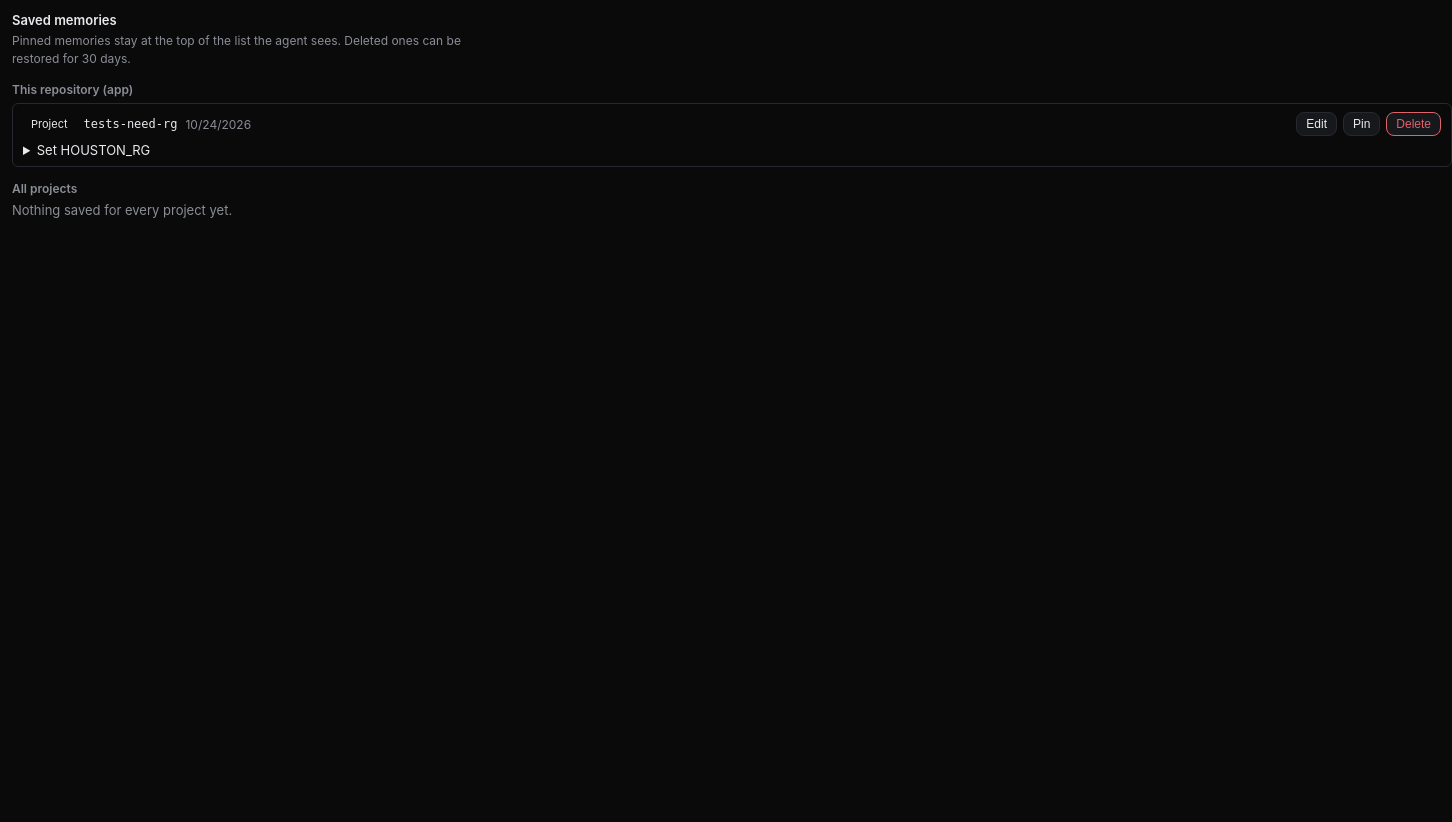
MemoriesSection › edits a memory, sending the version it was read at
The width and height of the screenshot is (1452, 822).
Click the button with aria-label "Edit memory tests-need-rg".
click(1317, 124)  # box top-left (1296, 112), bottom-right (1337, 136)
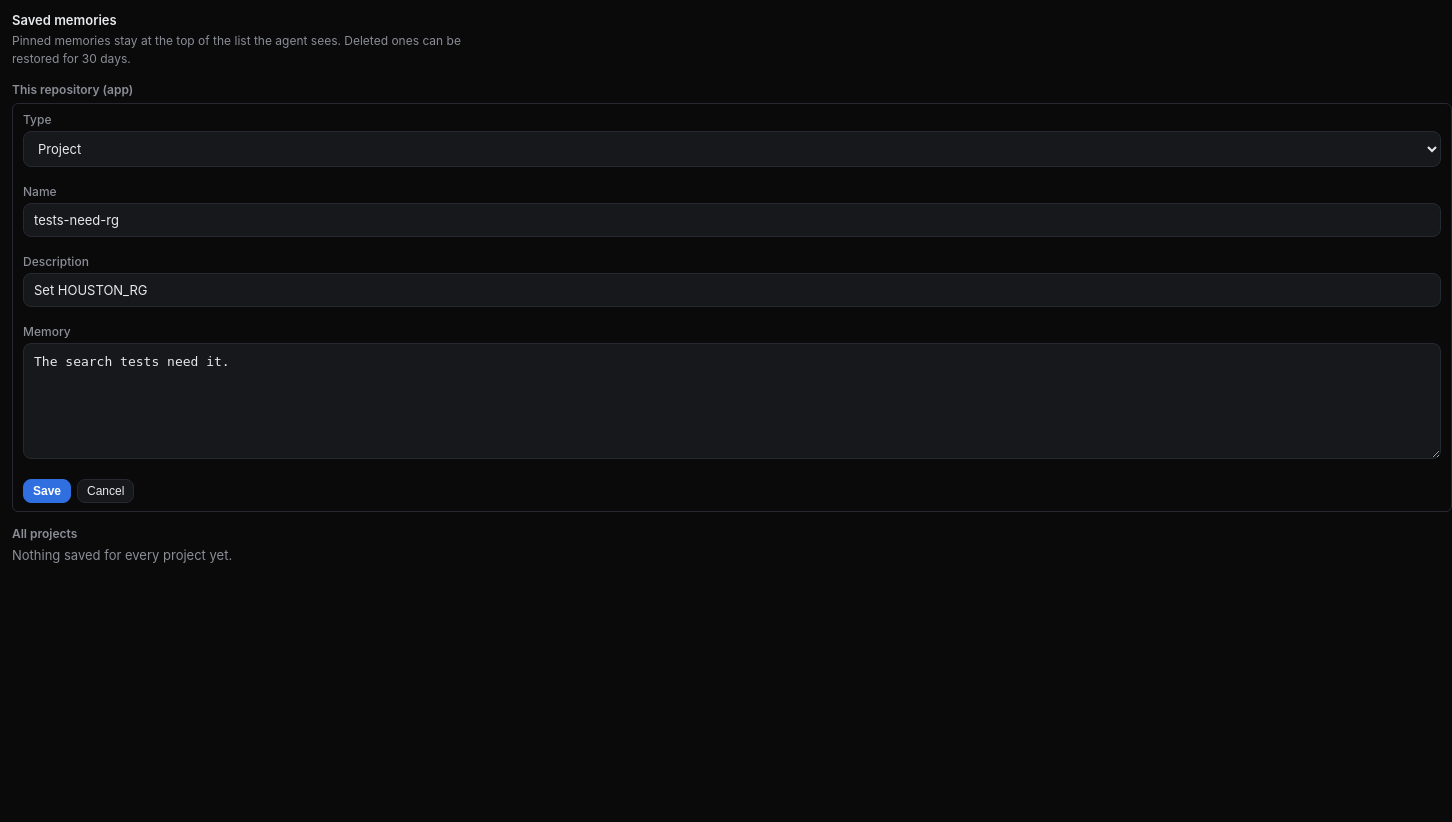
Replace the text in the text box labelled "Memory" with "Updated body" at (732, 401), box top-left (23, 343), bottom-right (1441, 458)
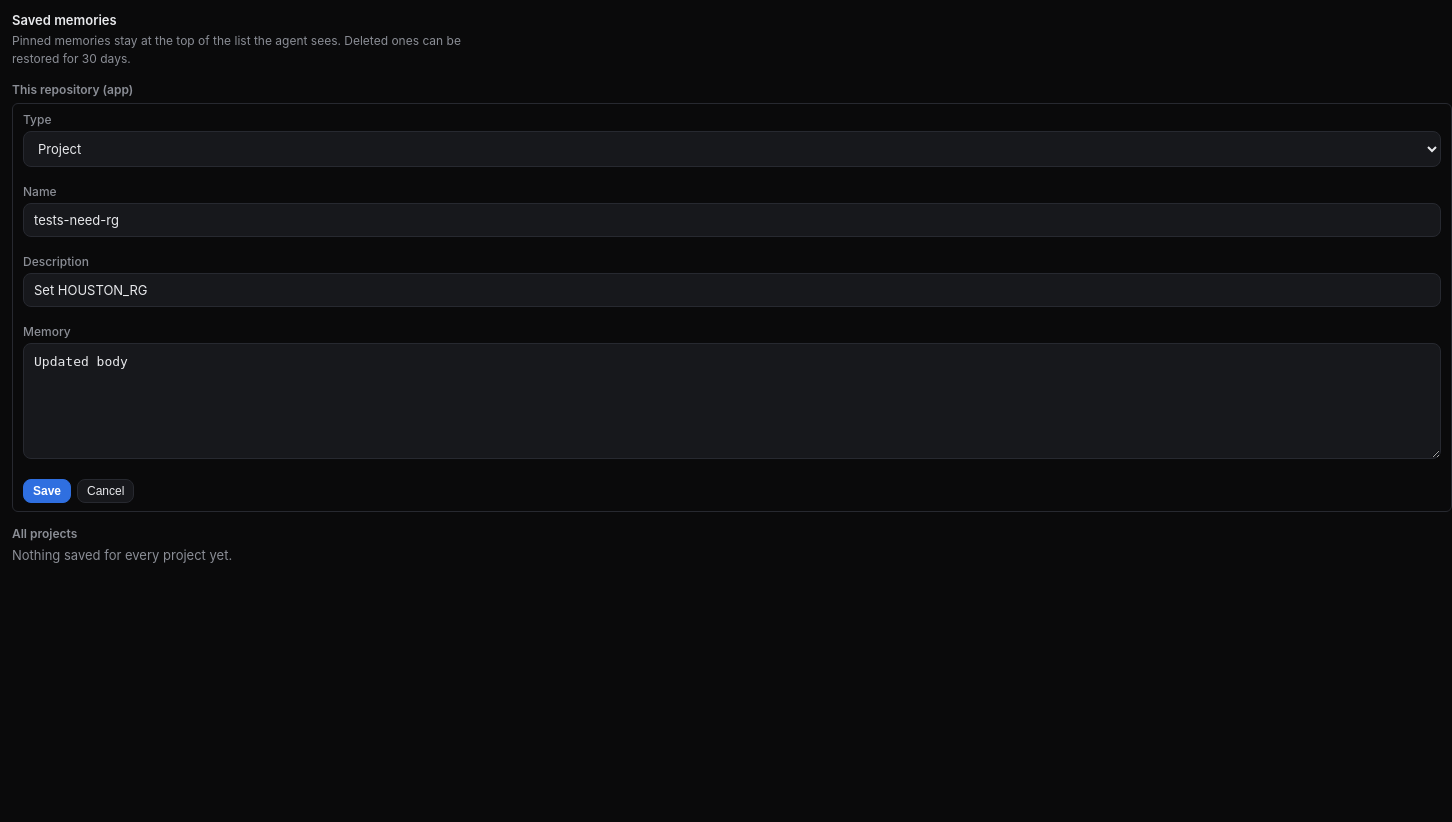
Click the button "Save".
click(47, 490)  # box top-left (23, 478), bottom-right (71, 502)
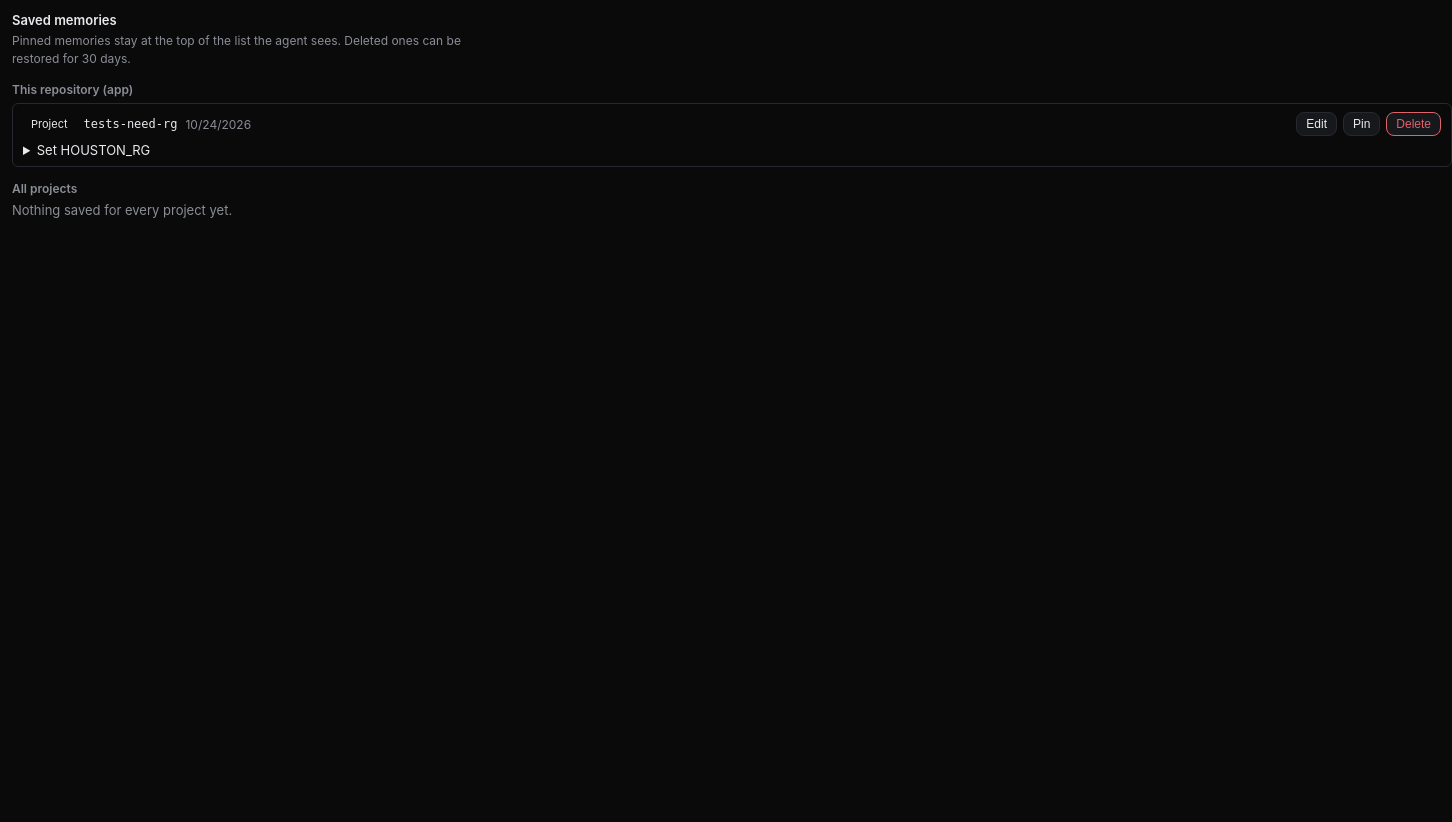
Now the text labelled "Memory" is gone
